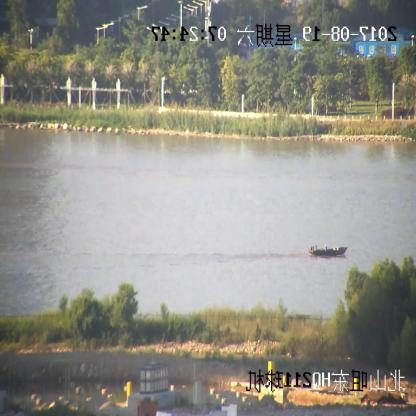Fishing Boat: (310, 245, 347, 257)
